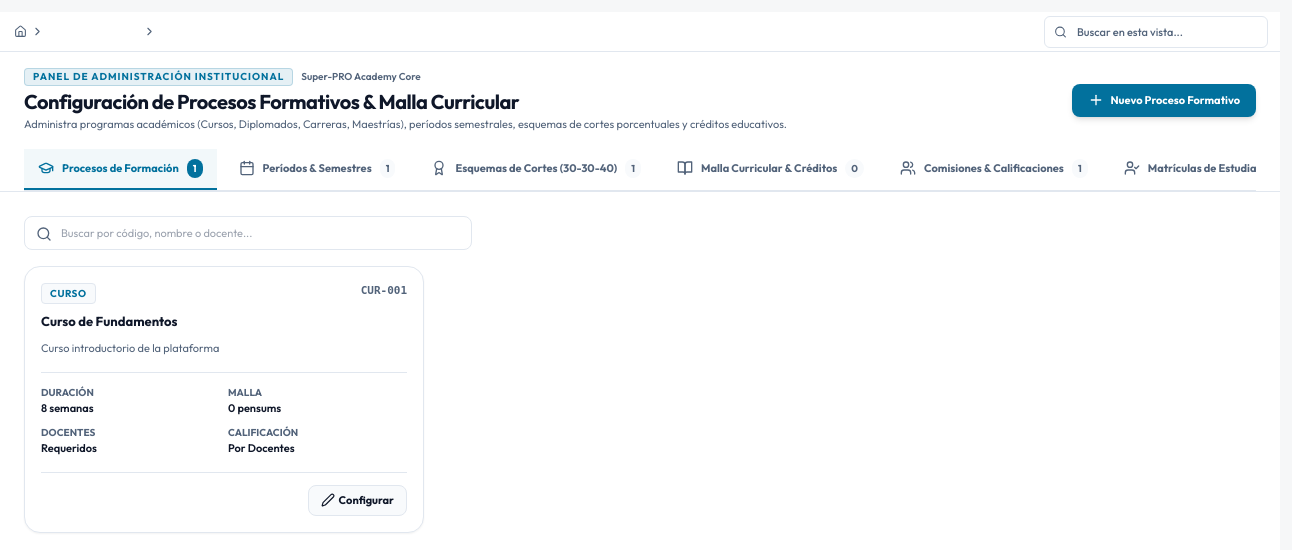
AcademyAdminConsole › cambia al tab de períodos y lista el período semestral
Expected: the heading "Curso de Fundamentos" is shown, [41,313,178,329]
Click the button "Períodos & Semestres 1": x=317, y=169 [224,148,410,190]
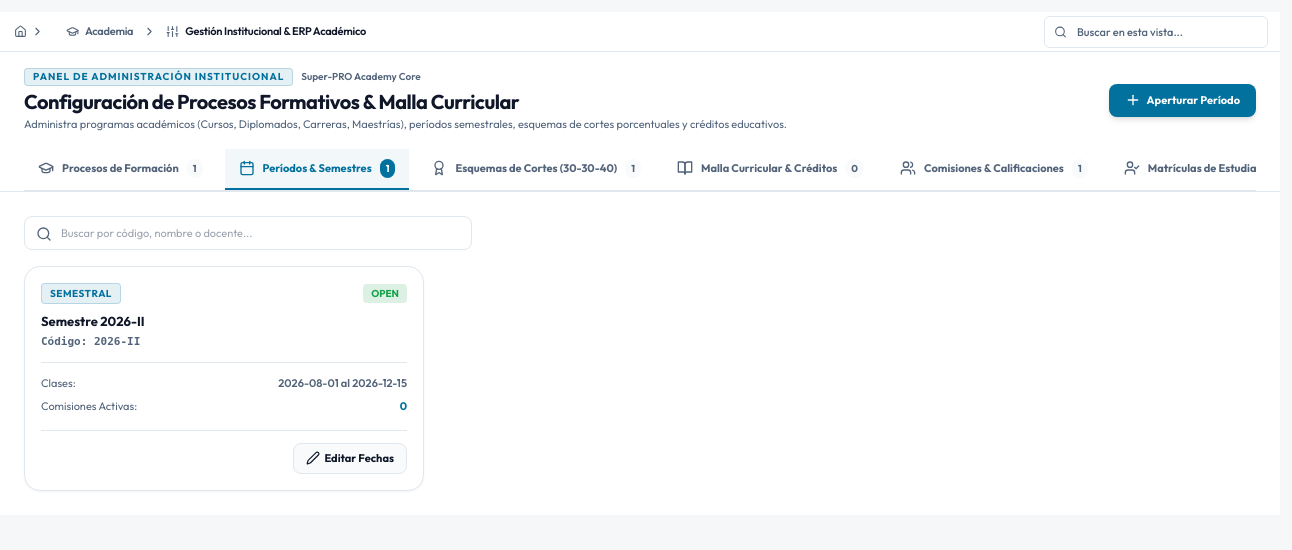
Expected: the heading "Semestre 2026-II" is shown, [41,313,145,329]
Expected: the text "open" is shown, [363,284,407,303]
